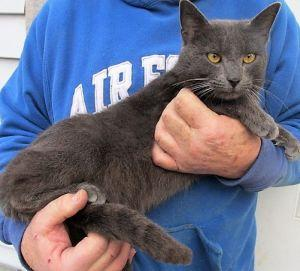rblue: (176, 1, 282, 109)
